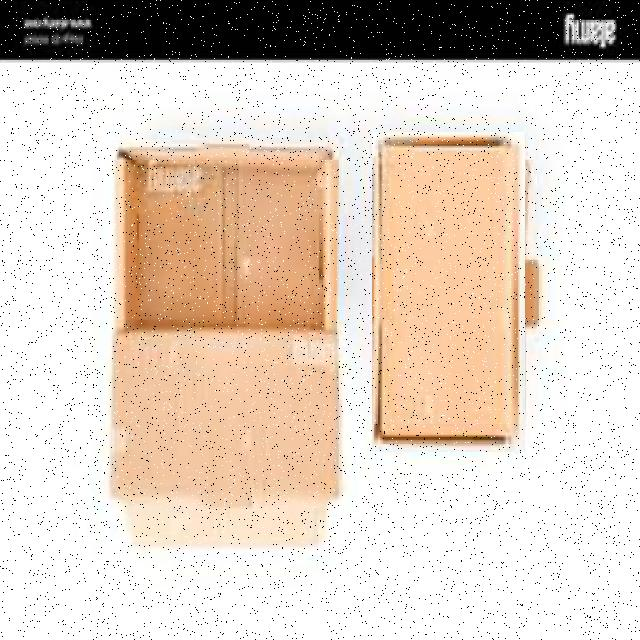normal: (372, 131, 525, 451)
